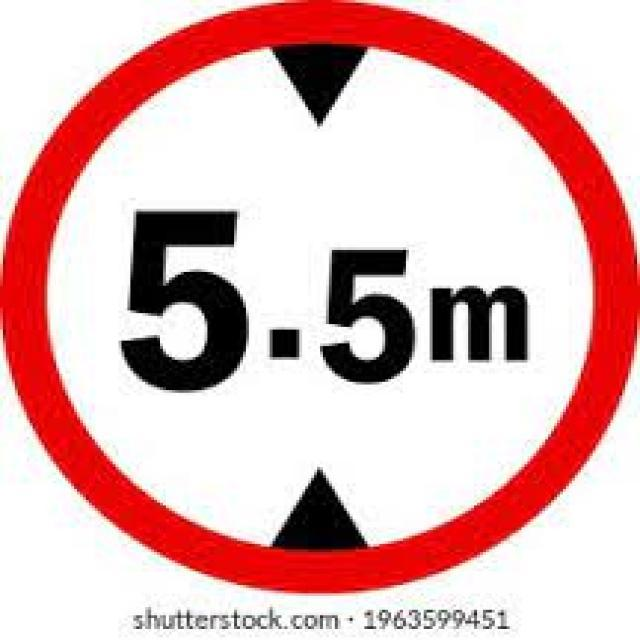height limit: (18, 15, 620, 594)
